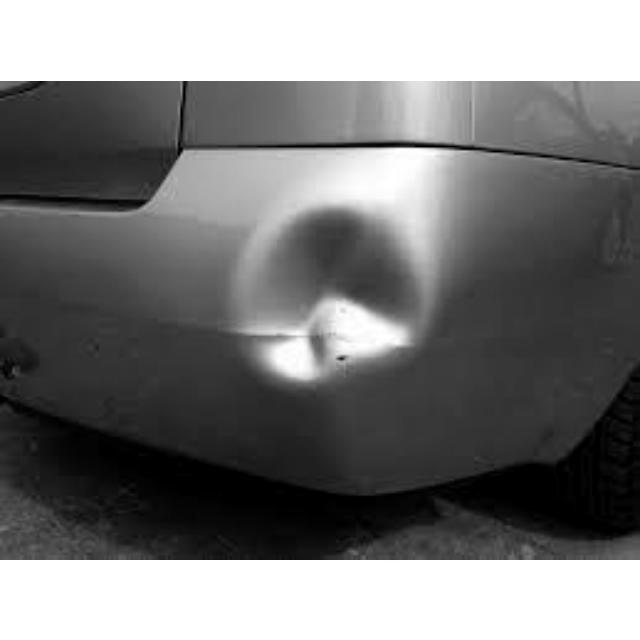rear-bumper-dent: (1, 136, 636, 494)
